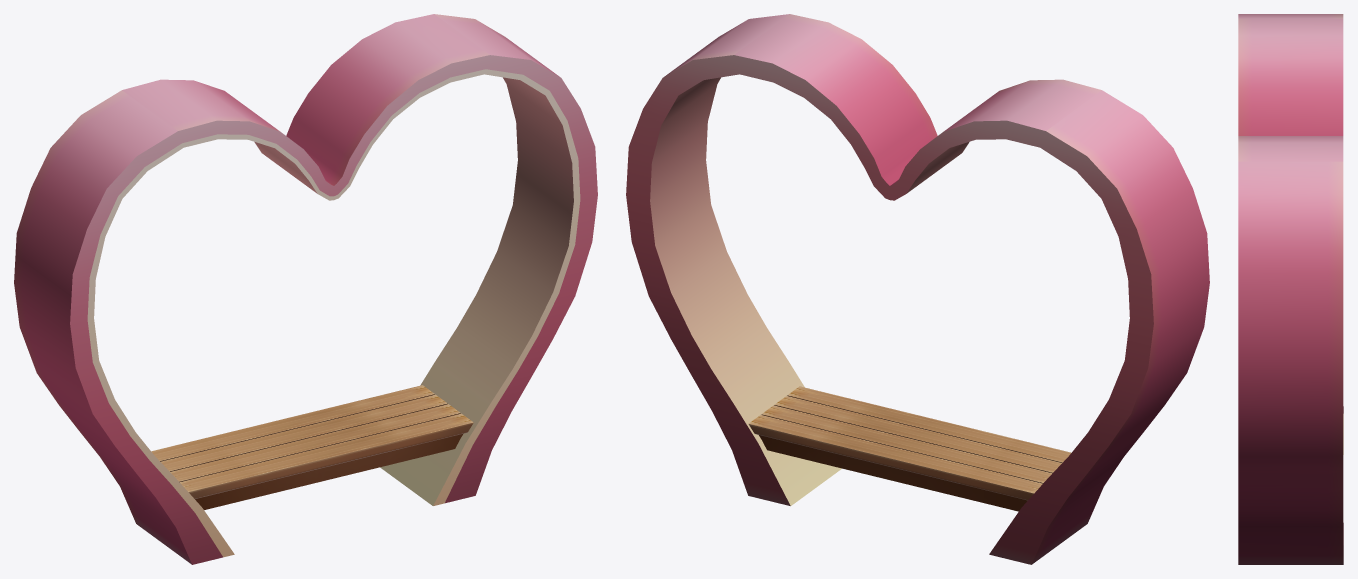
Rendered from CBS_obj_HeartBench.FBX.
3 views of the same model, side by side, from view 1: azimuth 30°, elevation 25°; view 2: azimuth 150°, elevation 25°; view 3: azimuth 270°, elevation 25° (orthographic). The views are drawn at different scales.
Visible parts, largest first — view 1: CBS_obj_HeartBench; view 2: CBS_obj_HeartBench; view 3: CBS_obj_HeartBench.
Boxes of the visible parts, x1=… form: CBS_obj_HeartBench: x1=14, y1=14, x2=597, y2=564; CBS_obj_HeartBench: x1=626, y1=14, x2=1209, y2=564; CBS_obj_HeartBench: x1=1238, y1=14, x2=1343, y2=564.
Bounding box in the file's own units: 240 × 191 × 44.25.
